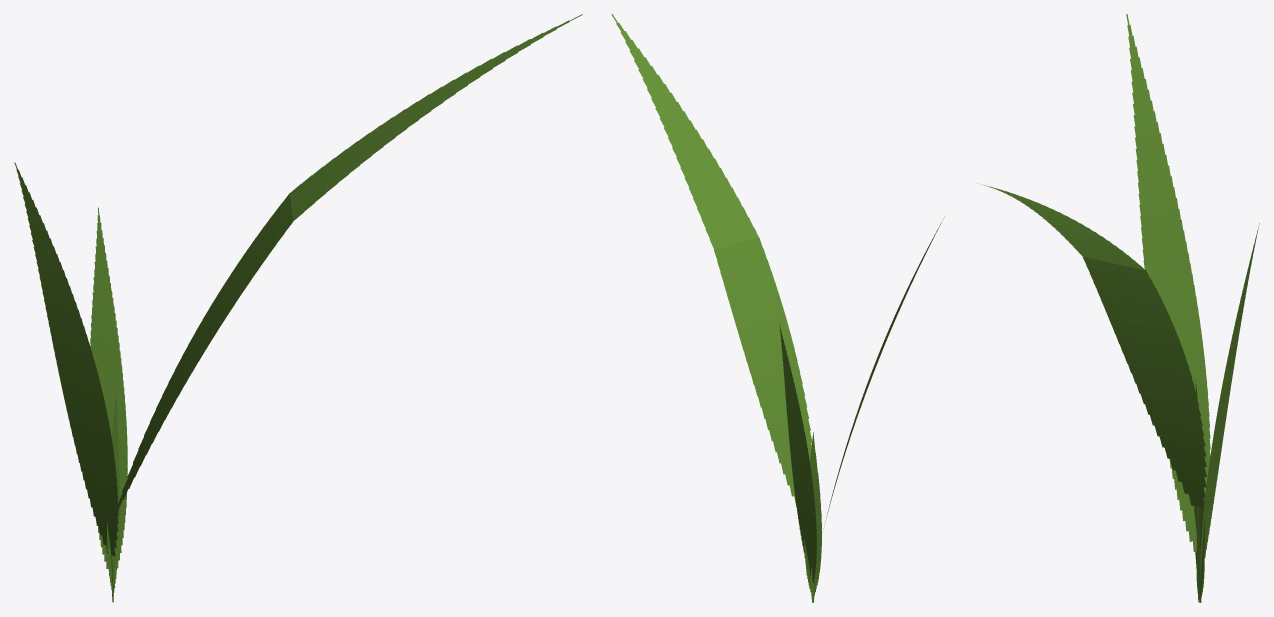
File: maize_003_day_045.dae
3 views of the same model, side by side, from view 1: azimuth 30°, elevation 25°; view 2: azimuth 150°, elevation 25°; view 3: azimuth 270°, elevation 25° (orthographic). The views are drawn at different scales.
Visible parts, largest first — view 1: node; view 2: node; view 3: node.
Part boxes in pixels (x1,y1,x2,y2): node: [14, 14, 582, 602]; node: [611, 14, 944, 602]; node: [982, 14, 1259, 602].
Bounding box in the file's own units: 0.2104 × 0.2343 × 0.1003.
1 material, 1 textured.
